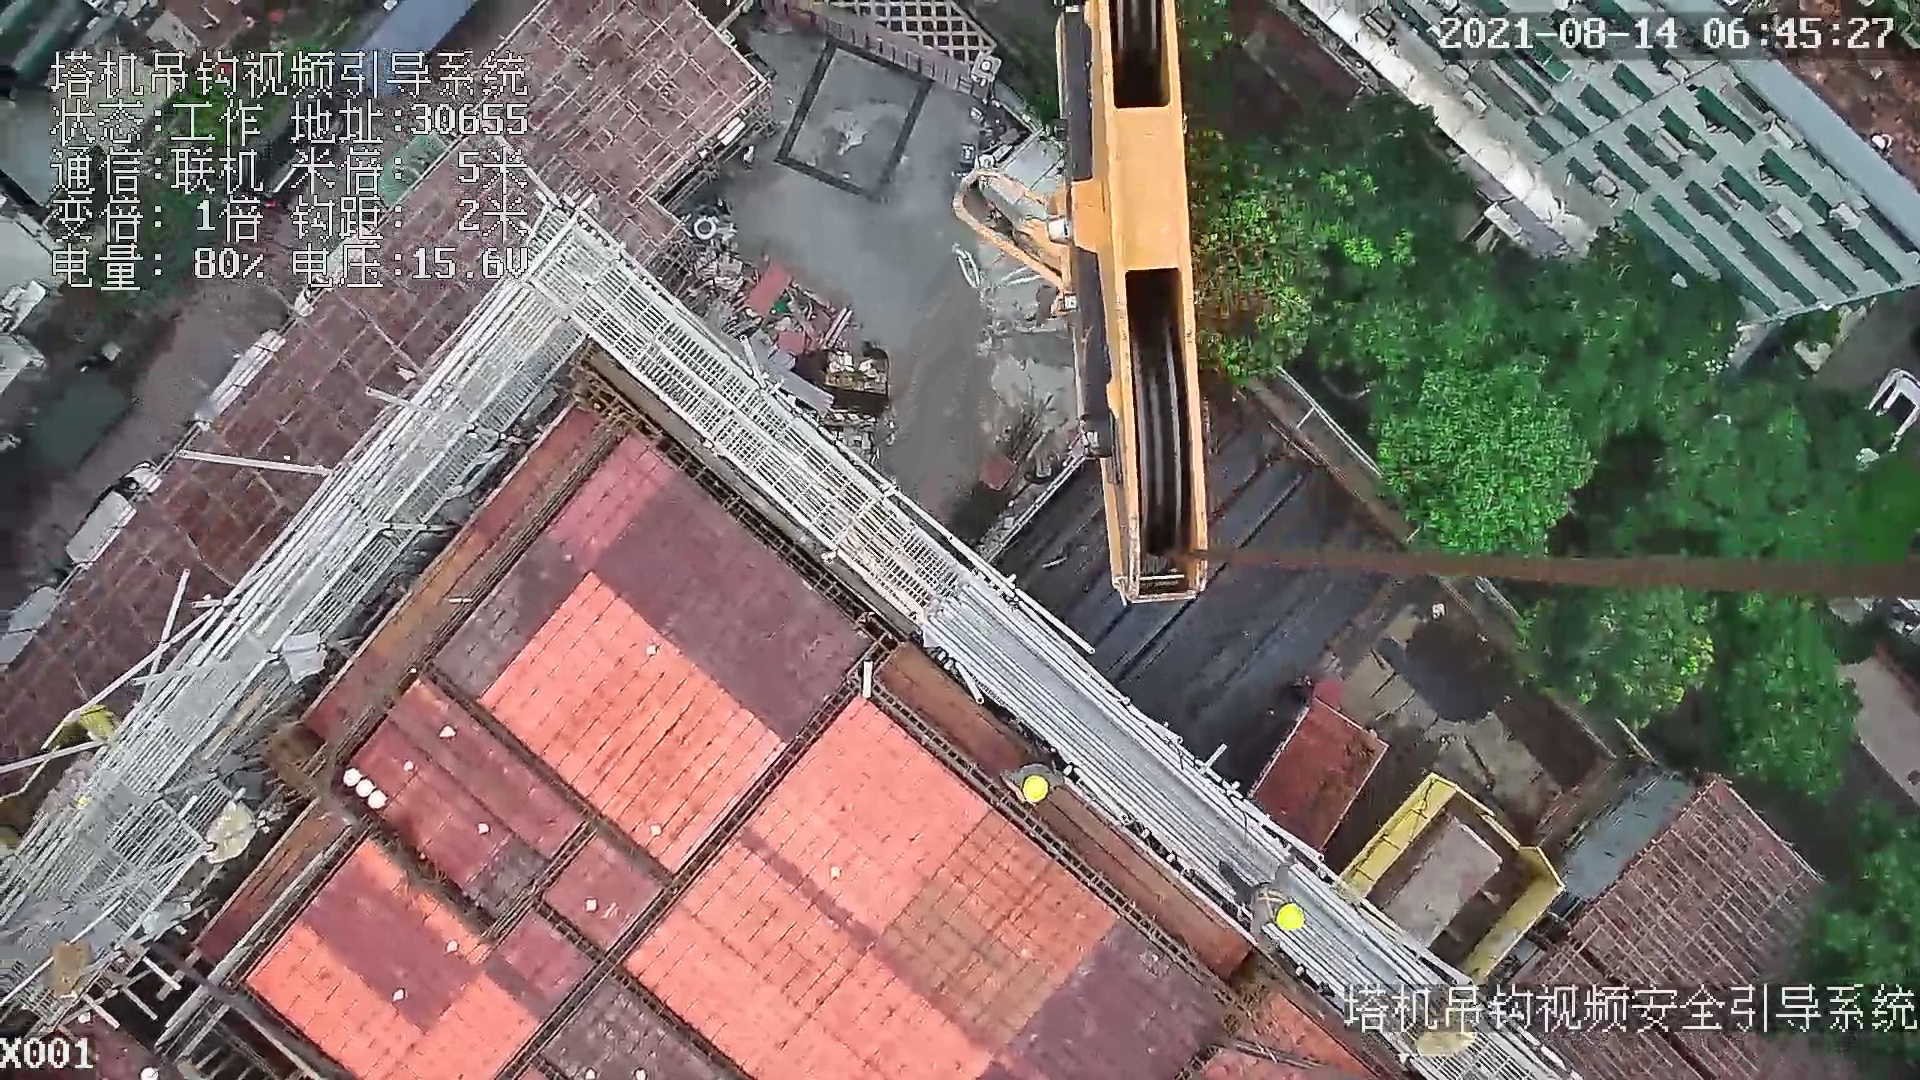board: (1378, 804, 1504, 953)
helmet: (1274, 901, 1308, 935), (1021, 771, 1047, 804)
hook: (951, 1, 1213, 605)
person: (1217, 844, 1310, 964), (1001, 747, 1074, 803)
